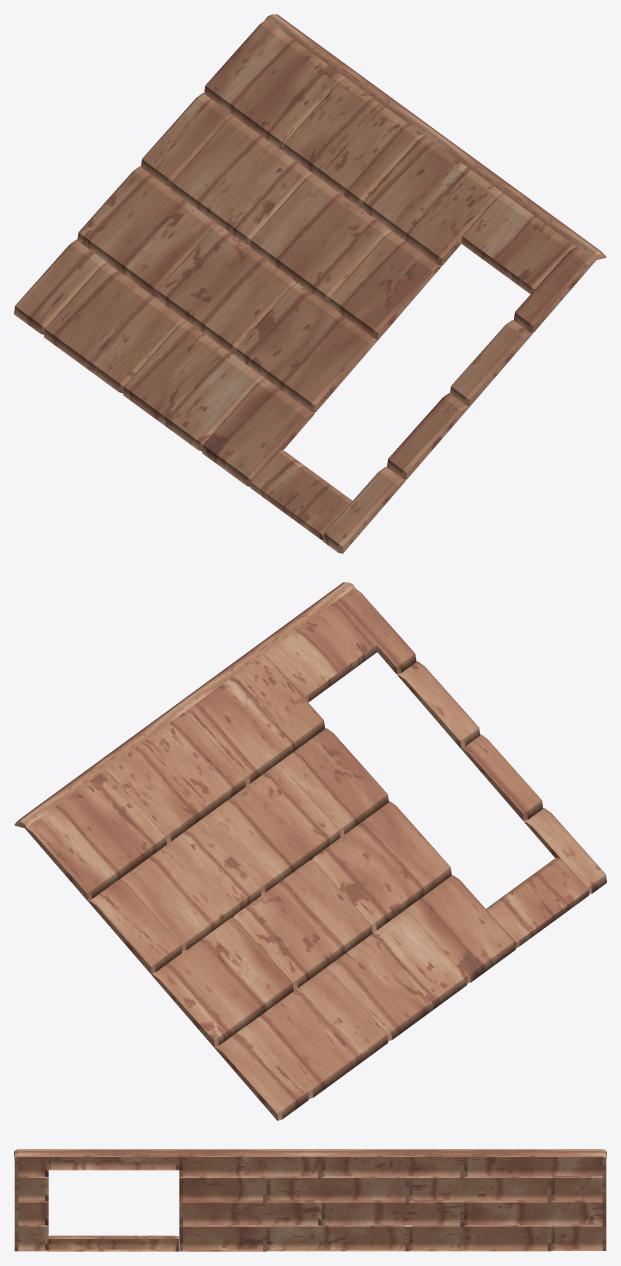
Rendered from Roof01.fbx.
The picture shows the model from 3 angles, top to bottom: view 1: azimuth 30°, elevation 25°; view 2: azimuth 150°, elevation 25°; view 3: azimuth 270°, elevation 25°; orthographic projection. The views are drawn at different scales.
Visible parts, largest first — view 1: Roof01; view 2: Roof01; view 3: Roof01.
Boxes of the visible parts, <box> form: Roof01: <box>14,14,606,553</box>; Roof01: <box>14,582,606,1120</box>; Roof01: <box>14,1149,606,1251</box>.
Size of the model in its own units: 375 by 320 by 800.
